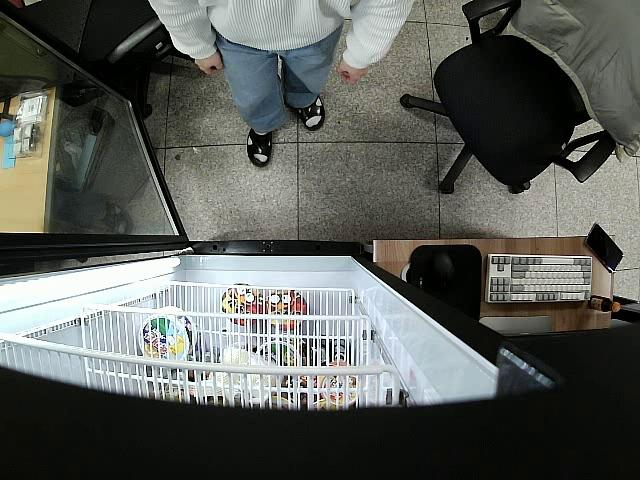00_hand: (193, 46, 225, 75), (334, 57, 366, 84)
